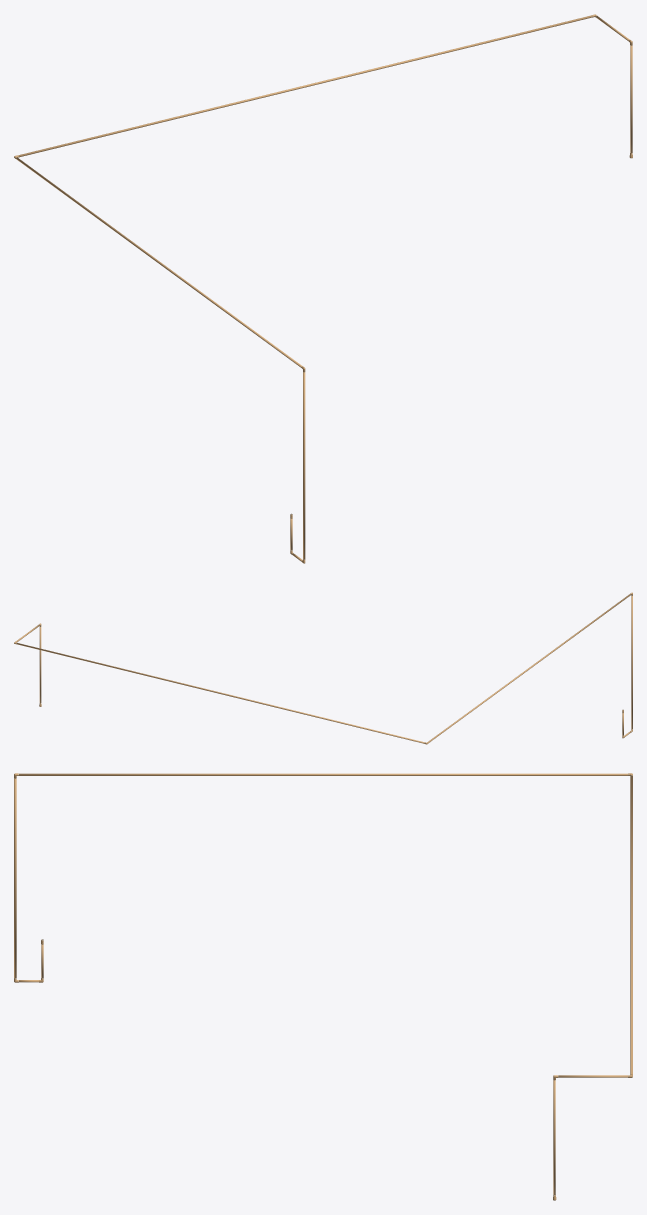
Rendered from slab_pipes_supply__water-well_and_softener-no_and_flowsmart-no_and_plumbing-copper.glb.
The picture shows the model from 3 angles, top to bottom: view 1: azimuth 30°, elevation 25°; view 2: azimuth 150°, elevation 25°; view 3: azimuth 270°, elevation 25°; orthographic projection. The views are drawn at different scales.
Visible parts, largest first — view 1: pipe_supply_well_to_house__copper; view 2: pipe_supply_well_to_house__copper; view 3: pipe_supply_well_to_house__copper.
Part boxes in pixels (x1=…): pipe_supply_well_to_house__copper: x1=16, y1=15, x2=632, y2=561; pipe_supply_well_to_house__copper: x1=16, y1=593, x2=632, y2=743; pipe_supply_well_to_house__copper: x1=14, y1=773, x2=632, y2=1194.
Bounding box in the file's own units: 6.61 × 2.12 × 5.7.
